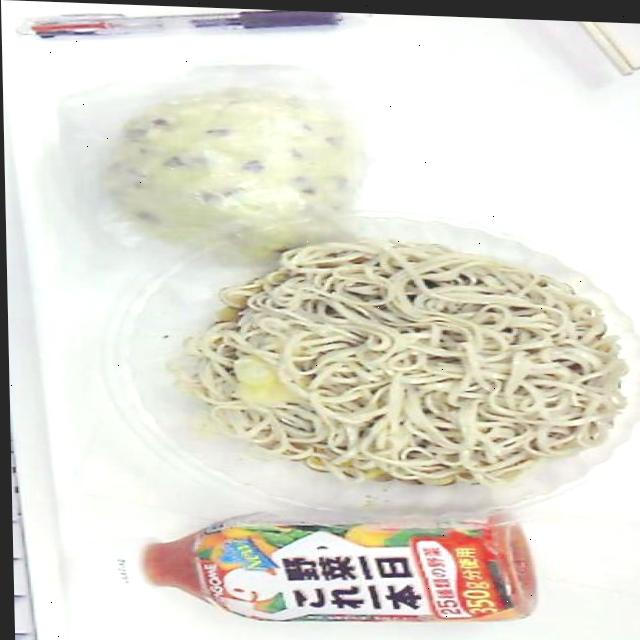面条主食: (102, 201, 640, 533)
